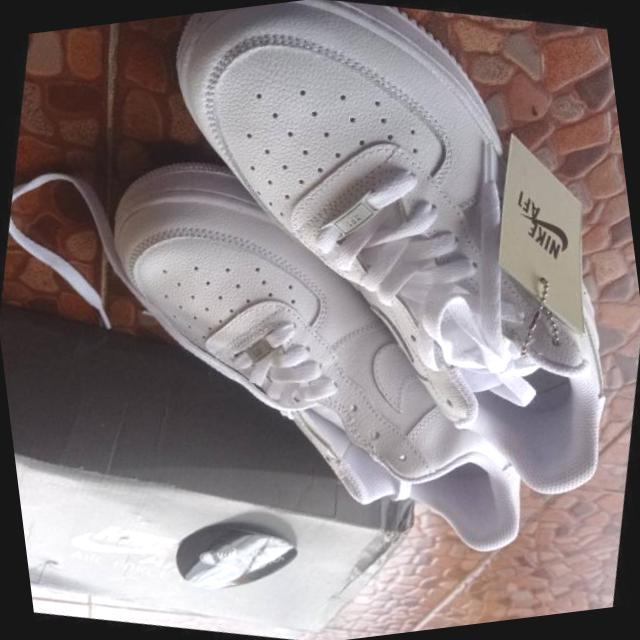nike_fake_airforce: (60, 0, 640, 562), (0, 89, 598, 612)
